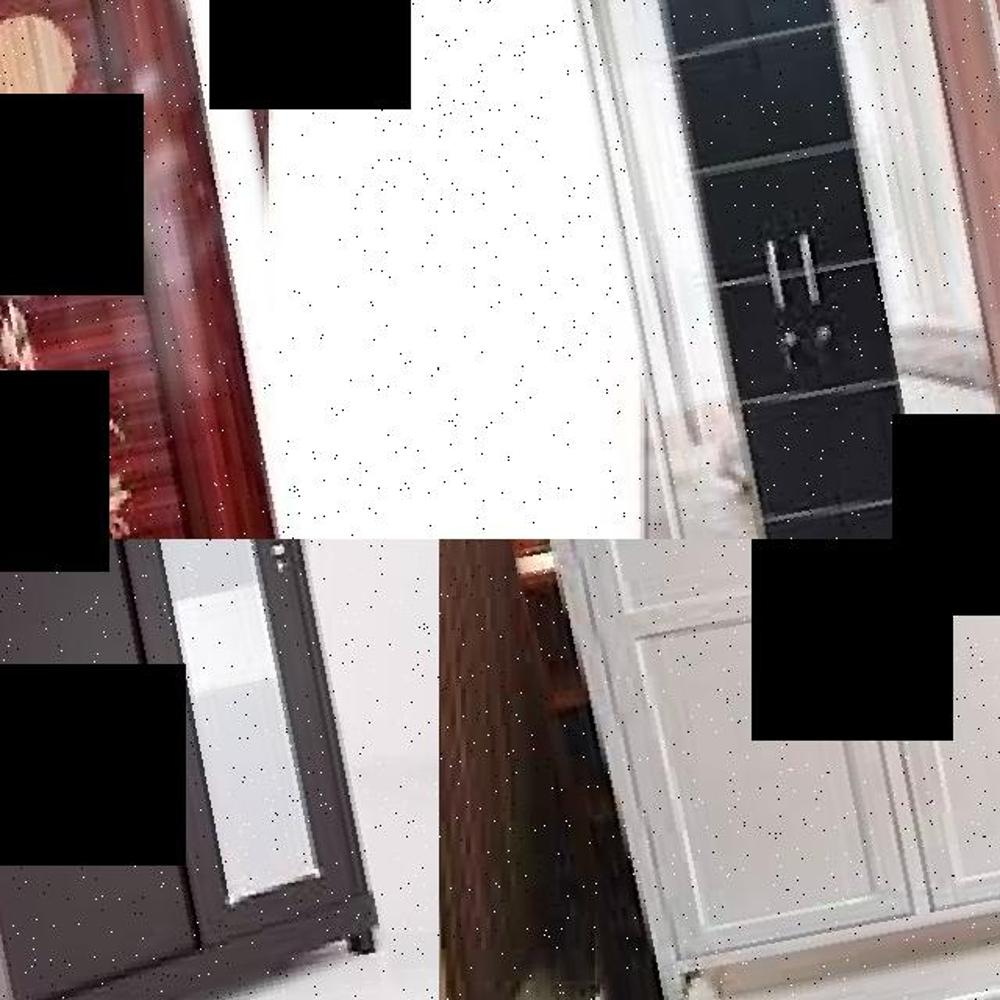cabinet: (489, 539, 1000, 1000), (595, 0, 1000, 539), (0, 0, 369, 539), (0, 539, 358, 1000)
